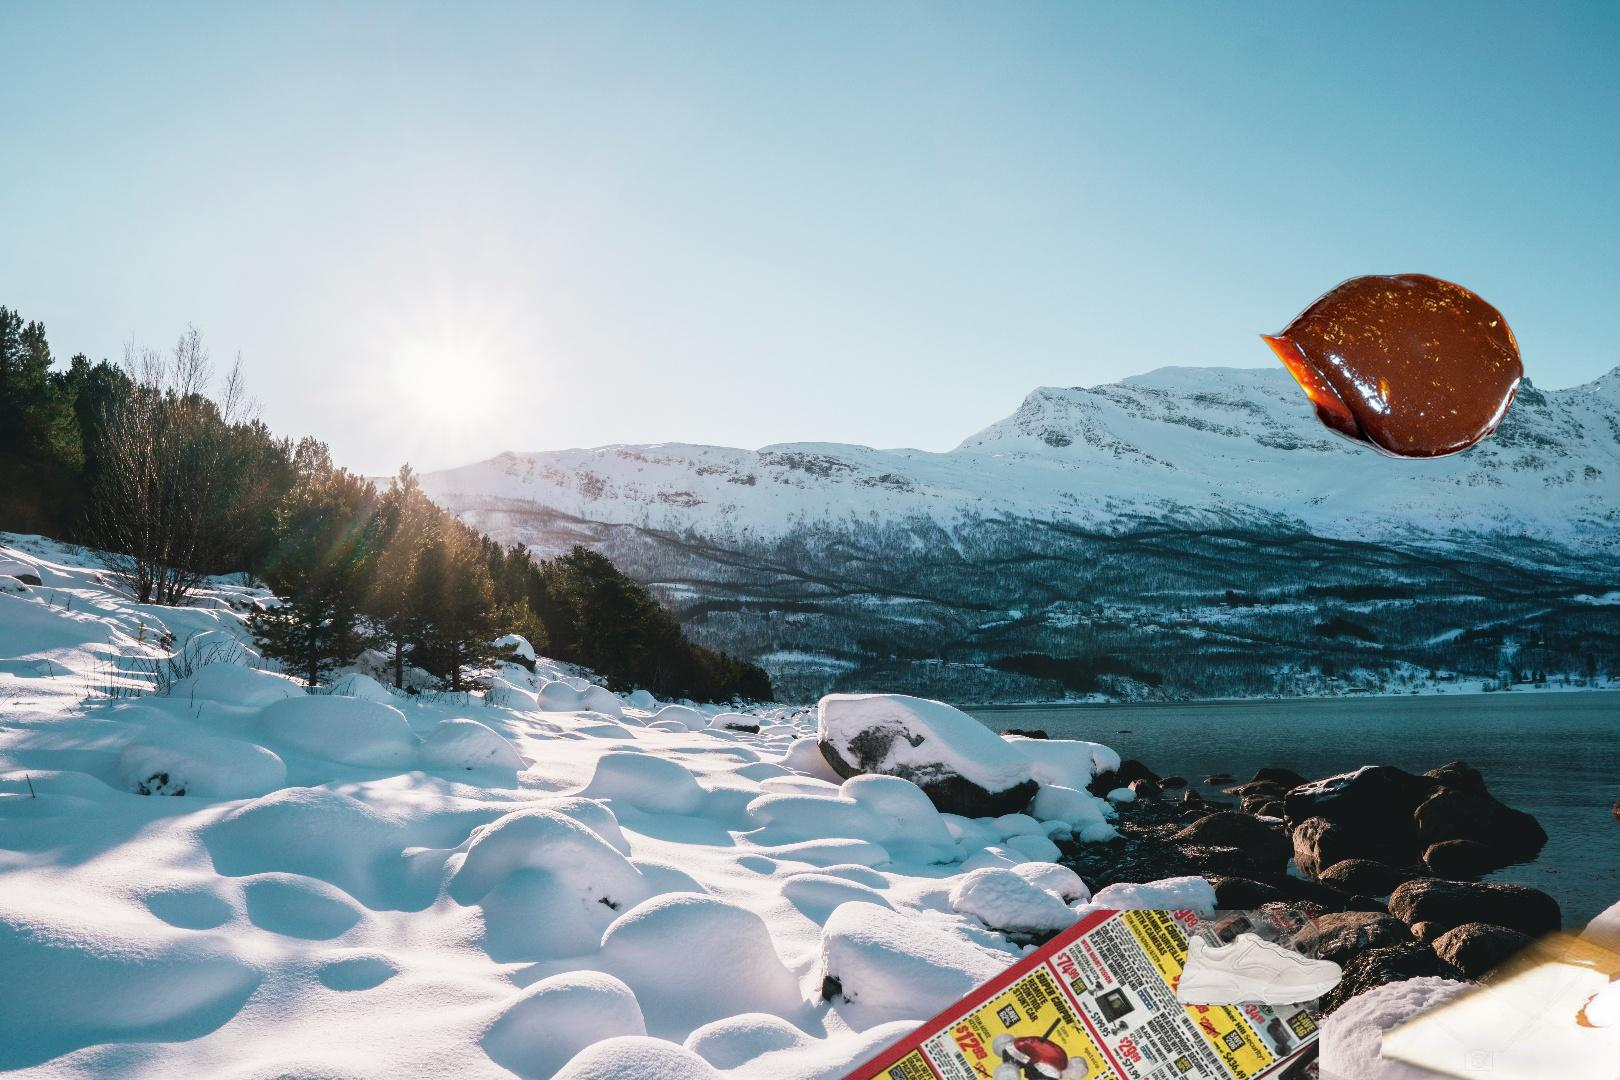biological: (1244, 271, 1531, 460)
paper: (818, 910, 1319, 1080)
shoes: (1173, 931, 1345, 1009)
trashbox-cardboard: (1383, 378, 1620, 1080)
